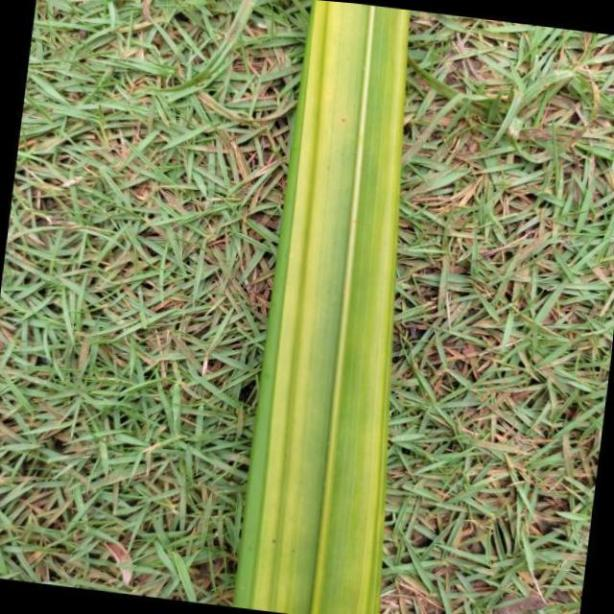nitrogen: (229, 0, 411, 614)
